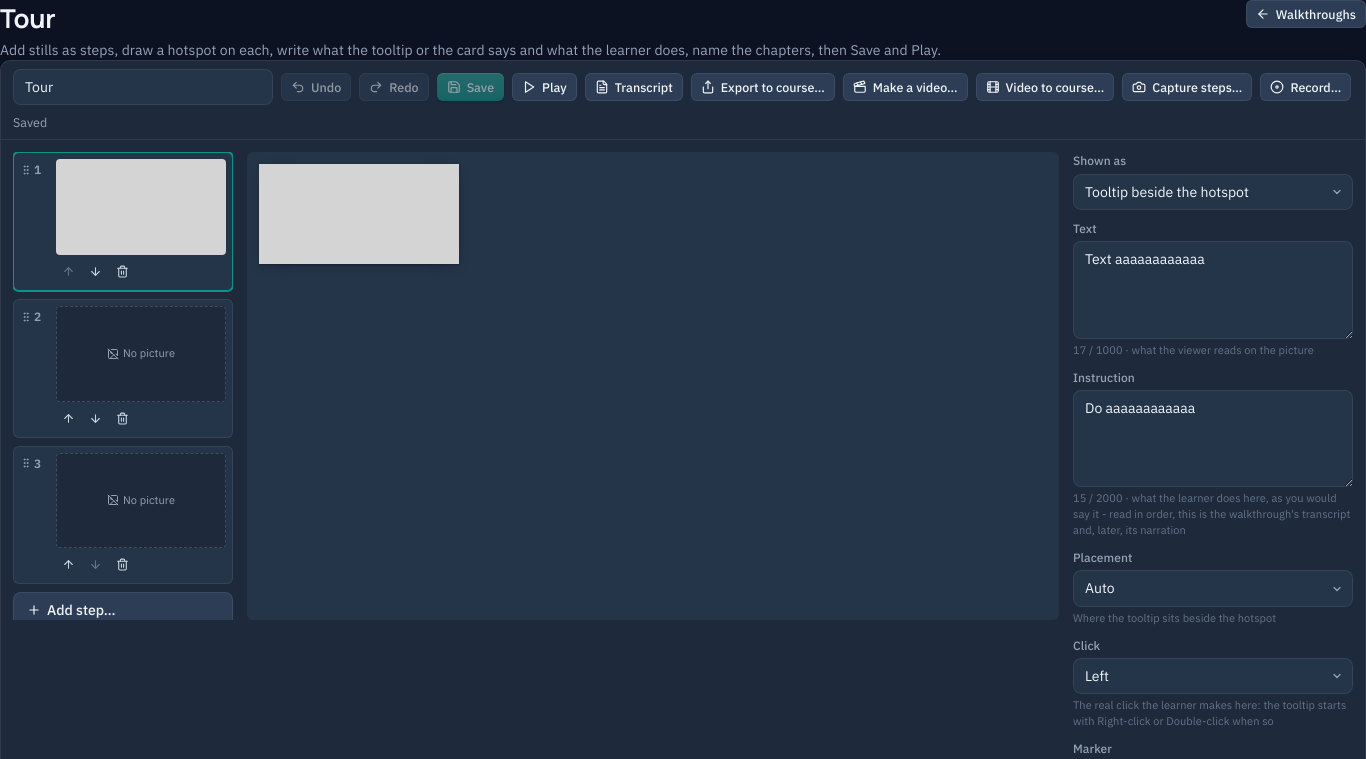
Test: the guided capture › a bar that cannot be opened gives the start up: the line names it, no key taken, no start row, the window stays
Click the button "Capture steps…" at coordinates (1187, 87), box [1122, 73, 1252, 101]
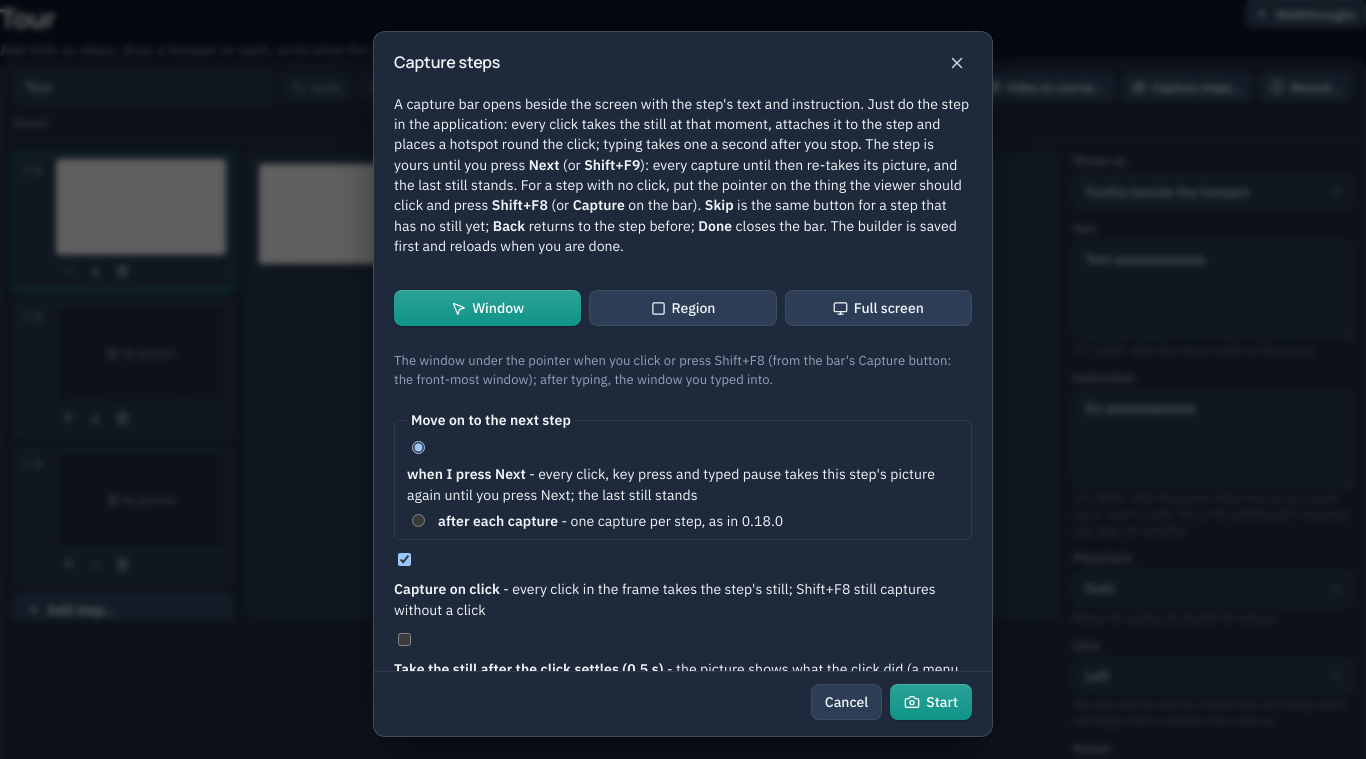
Result: the dialog shows "Capture steps" at [394, 51, 500, 73]
Click the radio button labelled "after each capture - one capture per step, as in 0.18.0" at coordinates (418, 520), box [412, 514, 425, 527]
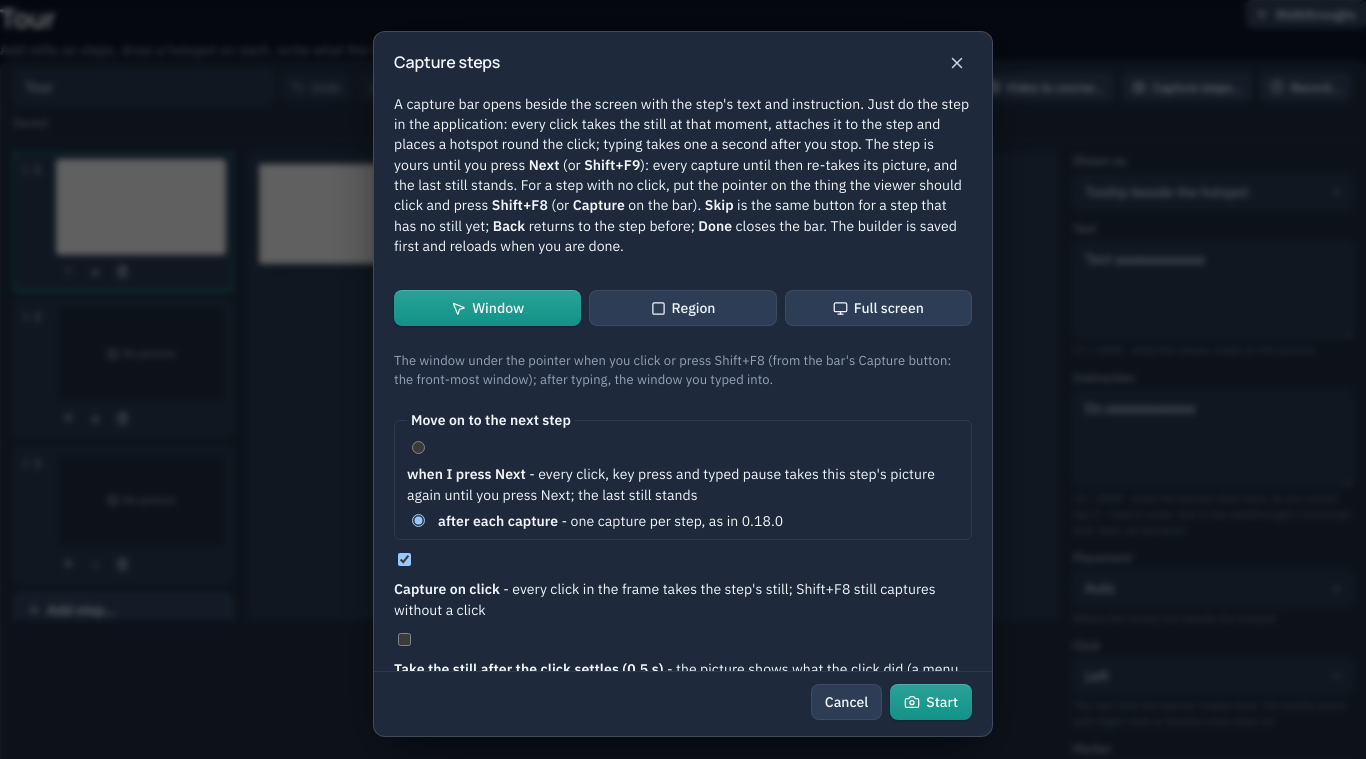
Click the button "Start" at coordinates (931, 702), box [890, 684, 972, 720]
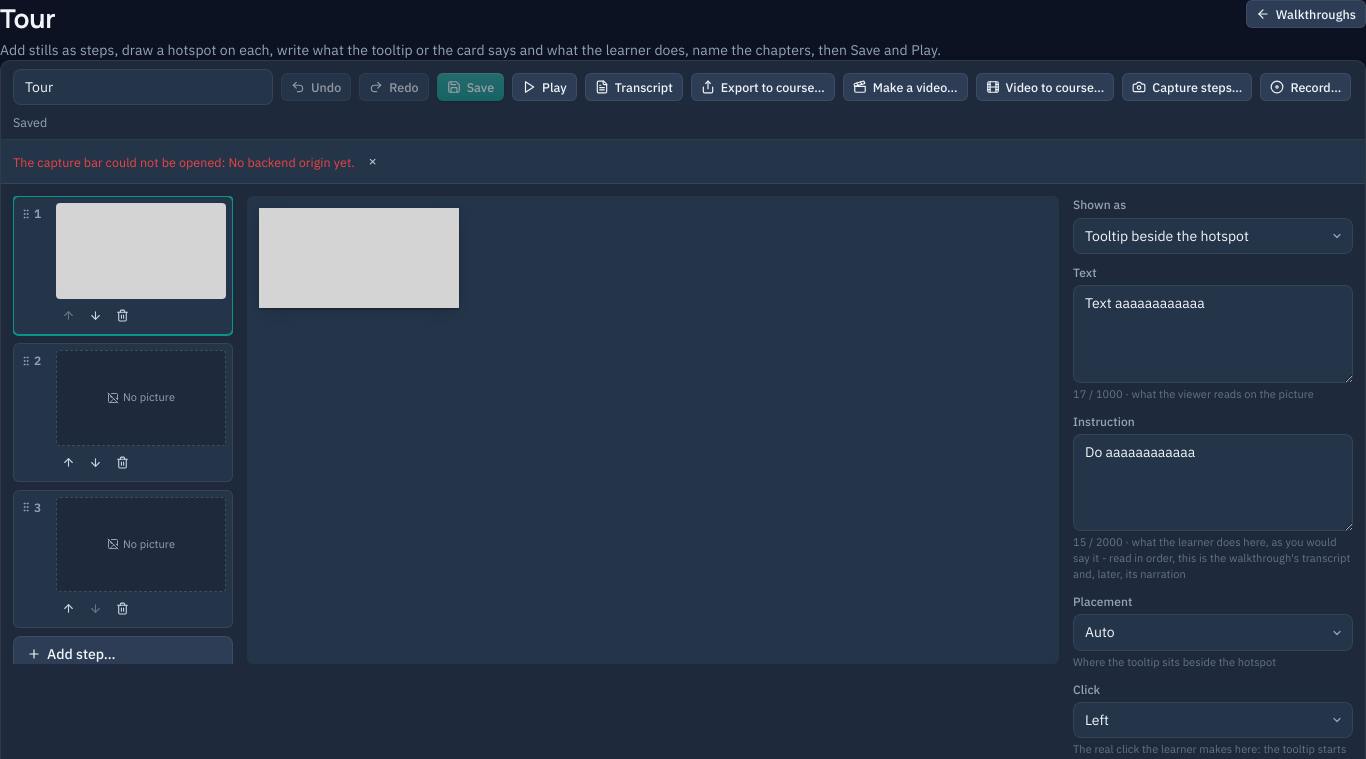
Expected: the button "Capture steps…" is enabled, [1122, 73, 1252, 101]
Result: the text "The capture bar could not be opened: No backend origin yet." is shown at [13, 153, 355, 171]
